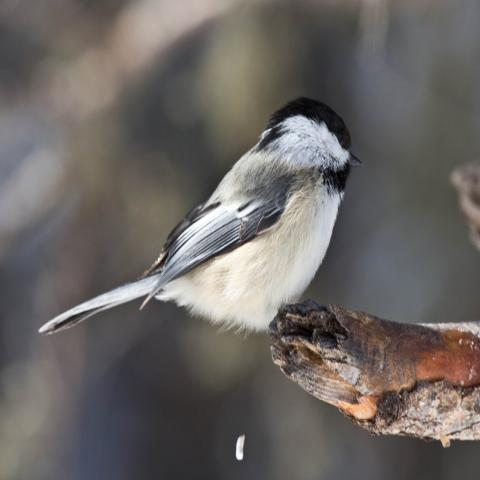bird: (37, 94, 364, 341)
